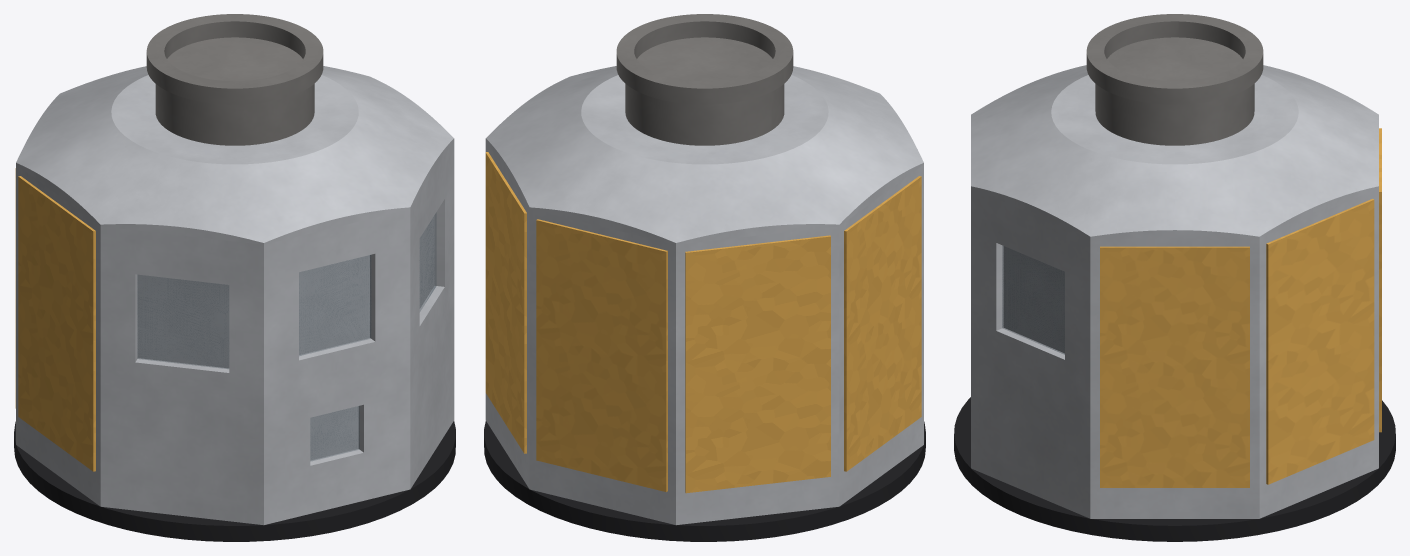
File: cmd09_lander_cabin.glb
The picture shows the model from 3 angles, left to right: view 1: azimuth 30°, elevation 25°; view 2: azimuth 150°, elevation 25°; view 3: azimuth 270°, elevation 25°; orthographic projection.
Parts seen in each view (by area): view 1: cabin_structure, roof, docking_tunnel, mli_panels, windows, base_ring; view 2: mli_panels, roof, cabin_structure, docking_tunnel, base_ring; view 3: mli_panels, cabin_structure, roof, docking_tunnel, base_ring, windows.
Part boxes in pixels (x1,y1,x2,y2): cabin_structure: [16, 140, 454, 525]; roof: [16, 66, 454, 244]; docking_tunnel: [146, 14, 323, 145]; mli_panels: [15, 168, 95, 471]; windows: [137, 213, 436, 460]; base_ring: [14, 421, 455, 541]; mli_panels: [485, 152, 921, 493]; roof: [485, 66, 923, 244]; cabin_structure: [485, 140, 923, 525]; docking_tunnel: [616, 14, 793, 145]; base_ring: [484, 421, 925, 541]; mli_panels: [1100, 128, 1381, 487]; cabin_structure: [971, 188, 1378, 518]; roof: [971, 65, 1378, 238]; docking_tunnel: [1086, 14, 1263, 145]; base_ring: [954, 397, 1395, 541]; windows: [1002, 246, 1064, 354].
Bounding box in the file's own units: 2.5 × 2.48 × 2.5.
5 materials, 3 textured.
